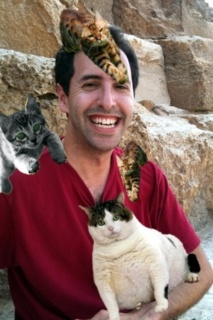Cat: (77, 190, 200, 319), (0, 90, 68, 197), (60, 0, 128, 85), (115, 138, 148, 203)
